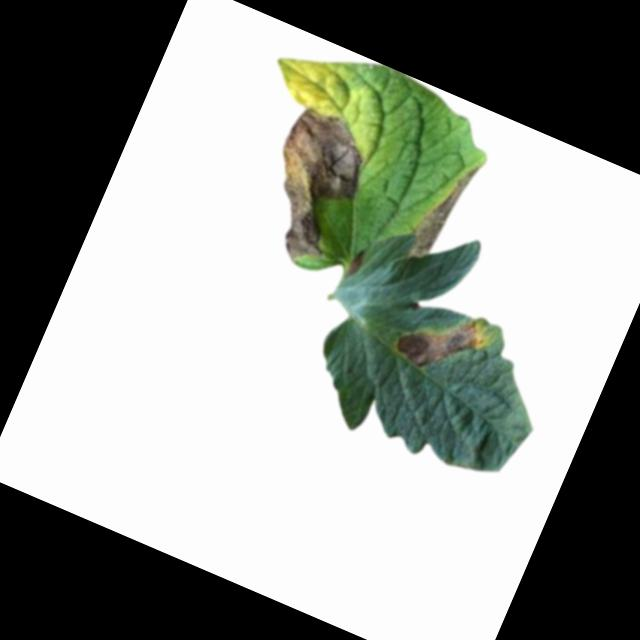Early_blight: (242, 100, 382, 275), (391, 294, 492, 388), (403, 153, 481, 269), (344, 246, 367, 279)
